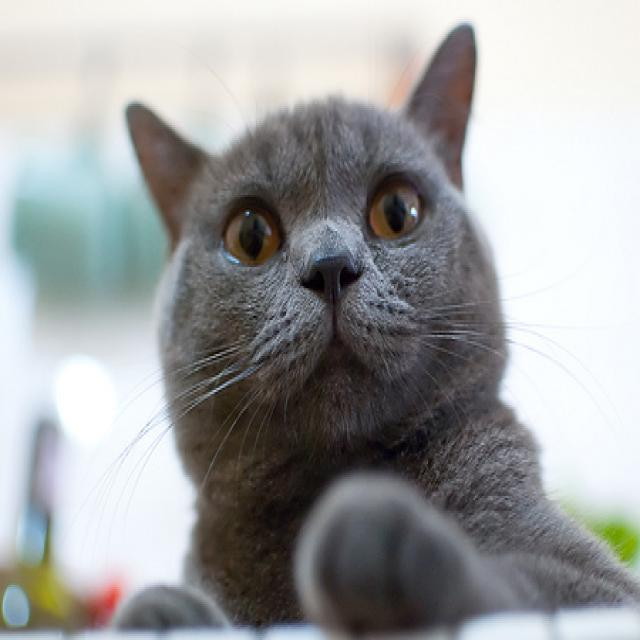British Shorthair: (112, 19, 640, 625)
